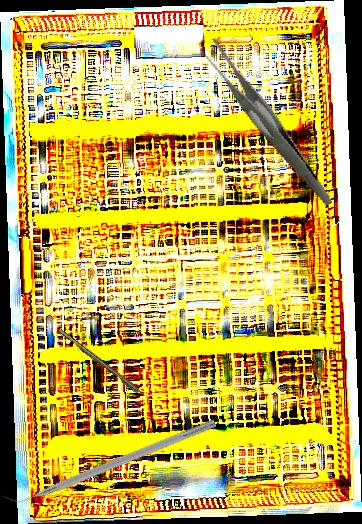Chopper: (1, 407, 217, 512)
Dressing Forceps: (197, 19, 333, 228)
Hook Surgical: (57, 327, 153, 404)
